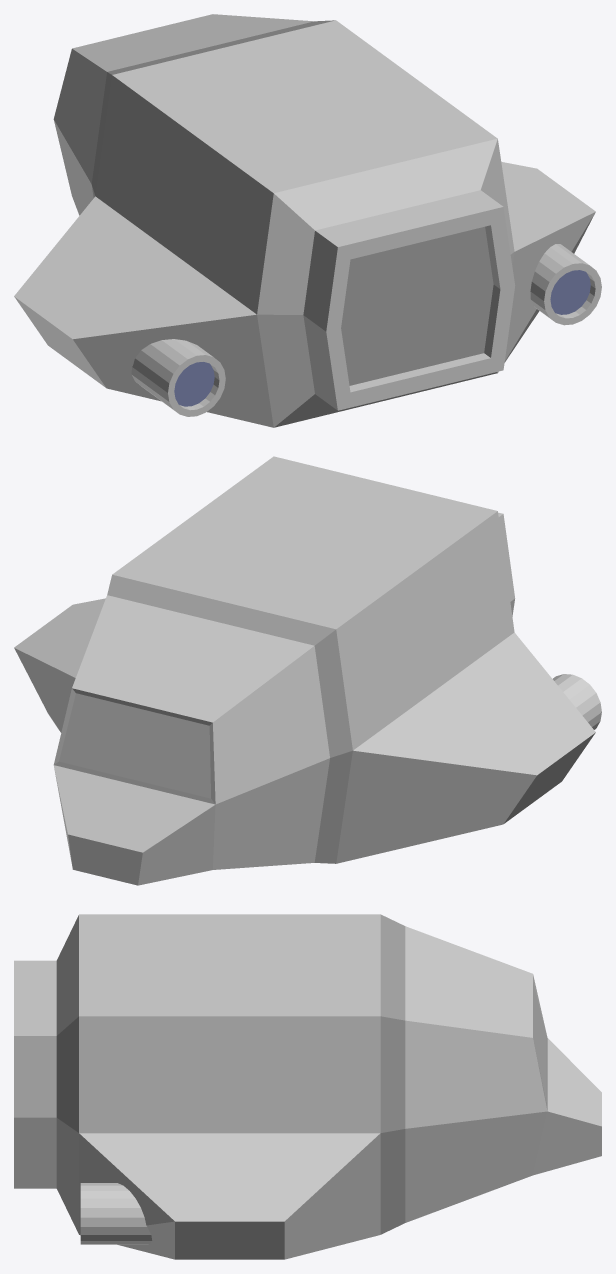
Rendered from escapePodOut.fbx.
The picture shows the model from 3 angles, top to bottom: view 1: azimuth 30°, elevation 25°; view 2: azimuth 150°, elevation 25°; view 3: azimuth 270°, elevation 25°; orthographic projection. The views are drawn at different scales.
Visible parts, largest first — view 1: Pod; view 2: Pod, Pod_Glass; view 3: Pod, Pod_Glass.
Part boxes in pixels (<box>): Pod: <box>14,14,601,427</box>; Pod: <box>14,456,601,885</box>; Pod_Glass: <box>59,693,210,798</box>; Pod: <box>14,914,601,1259</box>; Pod_Glass: <box>533,983,546,1103</box>.
Bounding box in the file's own units: 4.67 × 2 × 4.87.
